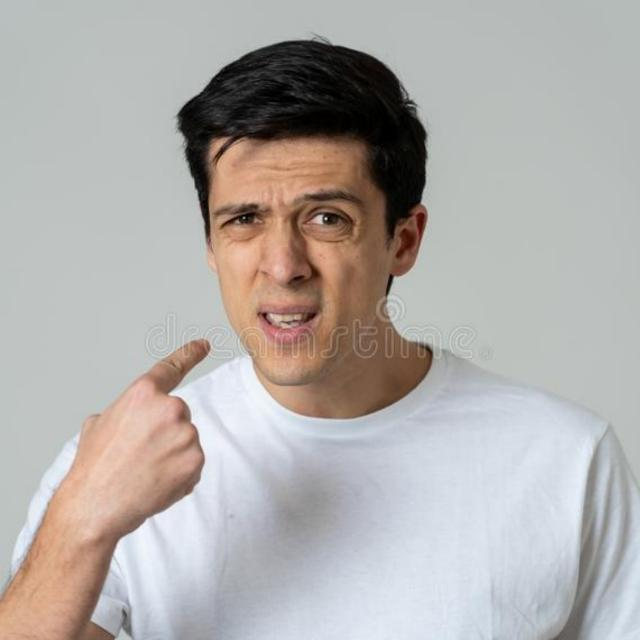Disgust: (165, 73, 407, 411)
